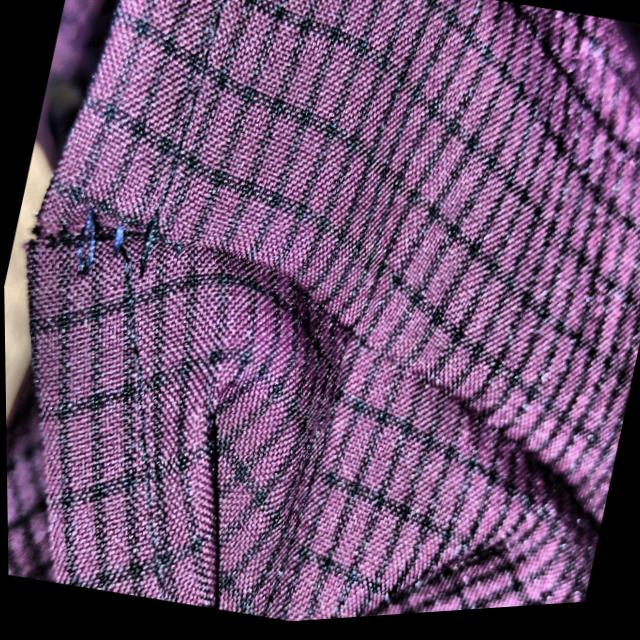Stitch: (53, 163, 193, 322)
